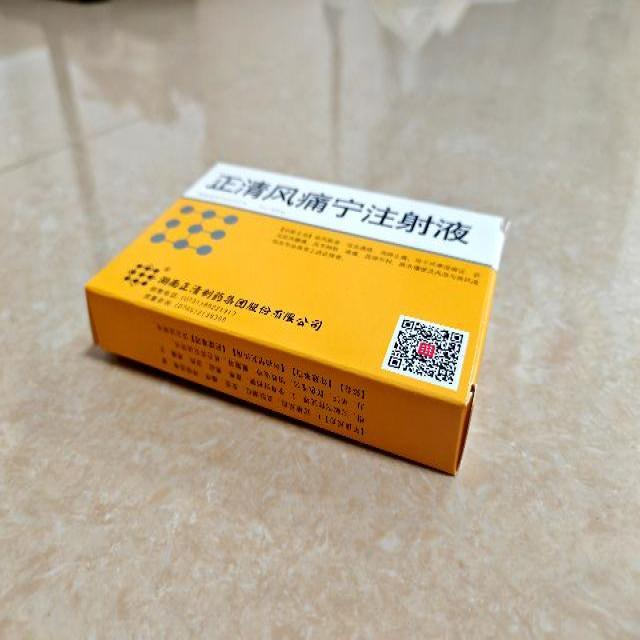box: (83, 160, 510, 475)
